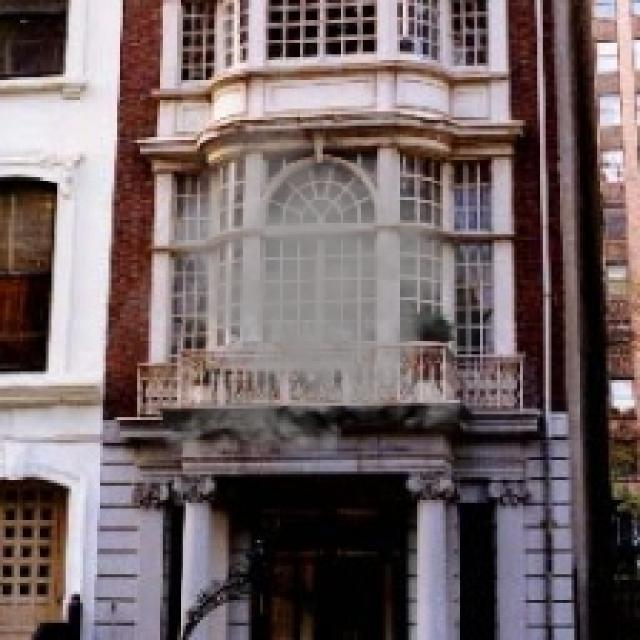smoke: (100, 117, 526, 472)
